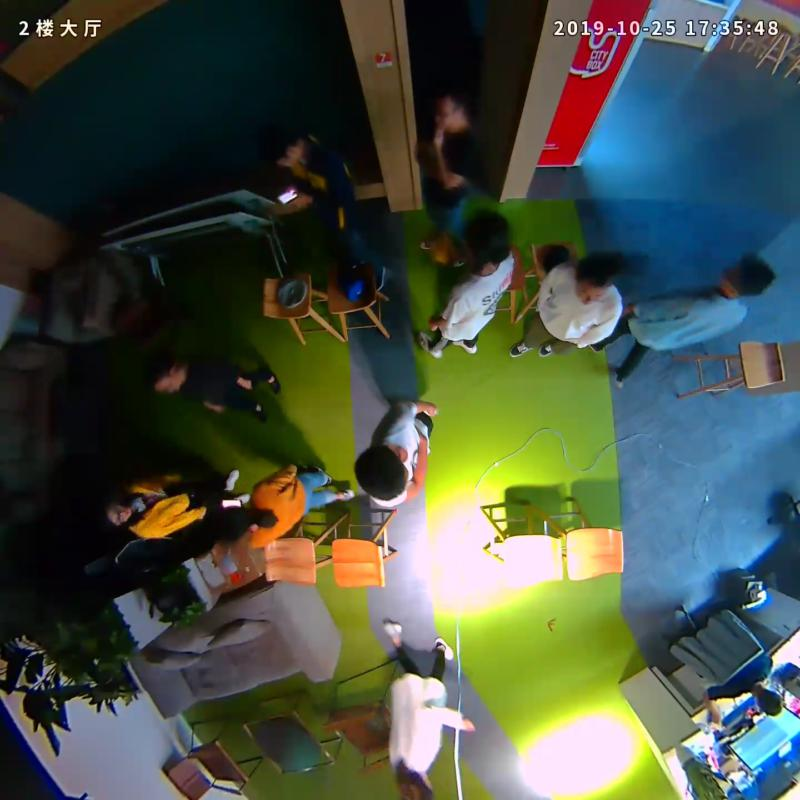head: (454, 207, 518, 272), (352, 441, 414, 505), (414, 79, 479, 139), (715, 250, 783, 301), (566, 248, 624, 303), (137, 345, 190, 399), (253, 121, 311, 170), (202, 501, 258, 548), (90, 489, 139, 533)
